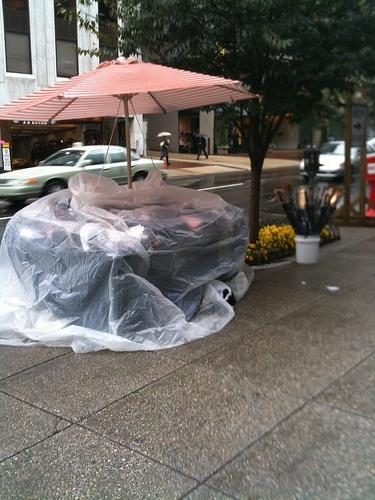car: (0, 143, 169, 196), (296, 140, 362, 180)
